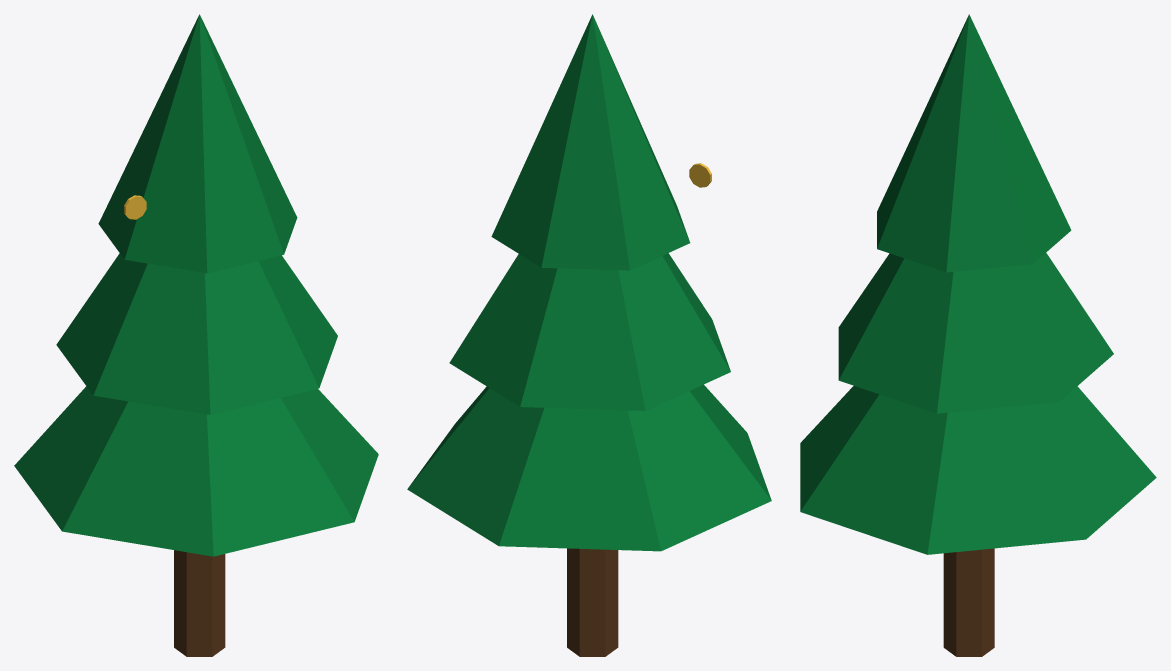
Rendered from Prop_OR_LedgerTree_07.glb.
The picture shows the model from 3 angles, left to right: view 1: azimuth 30°, elevation 25°; view 2: azimuth 150°, elevation 25°; view 3: azimuth 270°, elevation 25°; orthographic projection.
Visible parts, largest first — view 1: Prop_OR_LedgerTree_07; view 2: Prop_OR_LedgerTree_07; view 3: Prop_OR_LedgerTree_07.
Part boxes in pixels (left/top/right/bottom): Prop_OR_LedgerTree_07: left=14, top=14, right=378, bottom=656; Prop_OR_LedgerTree_07: left=407, top=14, right=771, bottom=656; Prop_OR_LedgerTree_07: left=800, top=14, right=1156, bottom=656.
Bounding box in the file's own units: 2.14 × 4.1 × 2.09.
